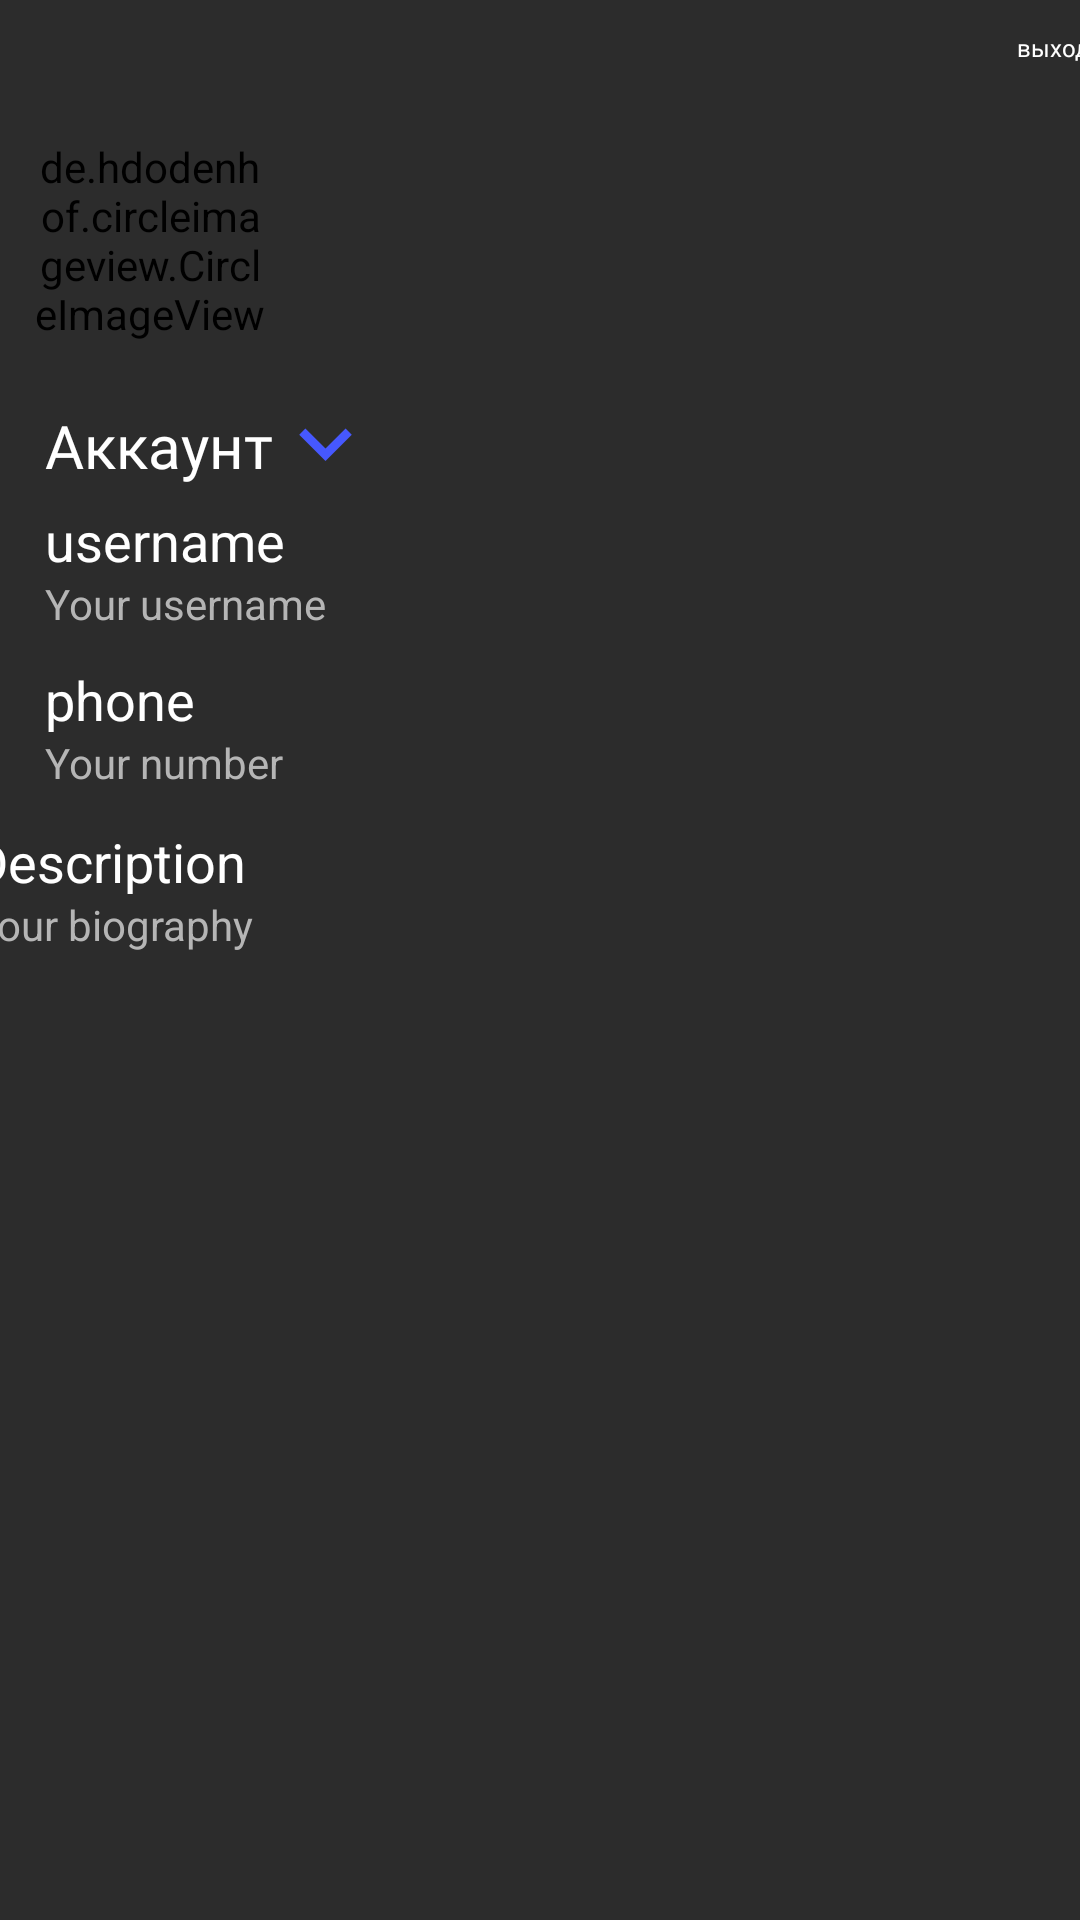

Where icons sit on this 1080px x 1920px app screen, as (x1, y1, x2, y2):
keyboard arrow down: (299, 428, 352, 461)
